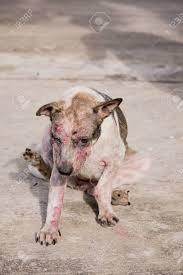infection: (51, 114, 89, 190)
